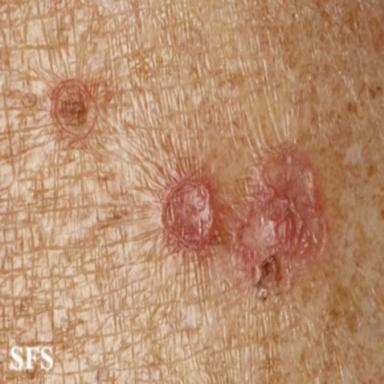Porokeratosis: (233, 146, 326, 303), (162, 176, 215, 250), (51, 79, 97, 141)
